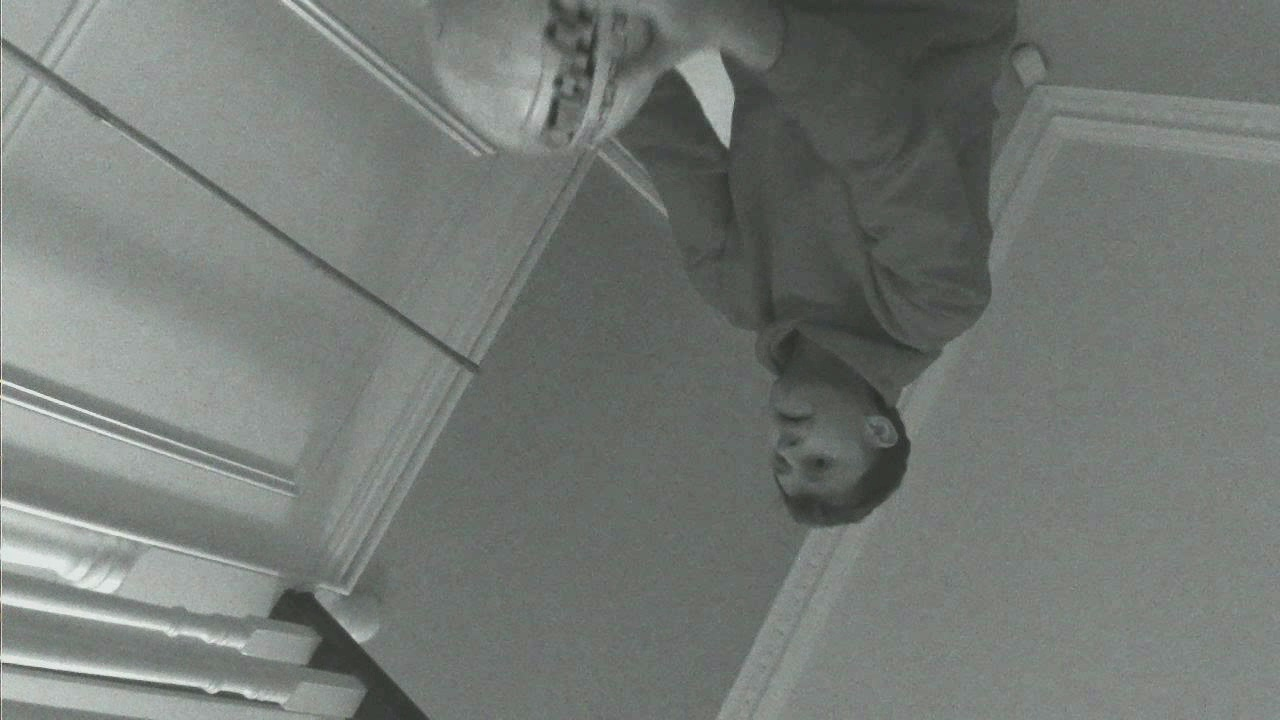Football-Spotter: (427, 0, 660, 154)
